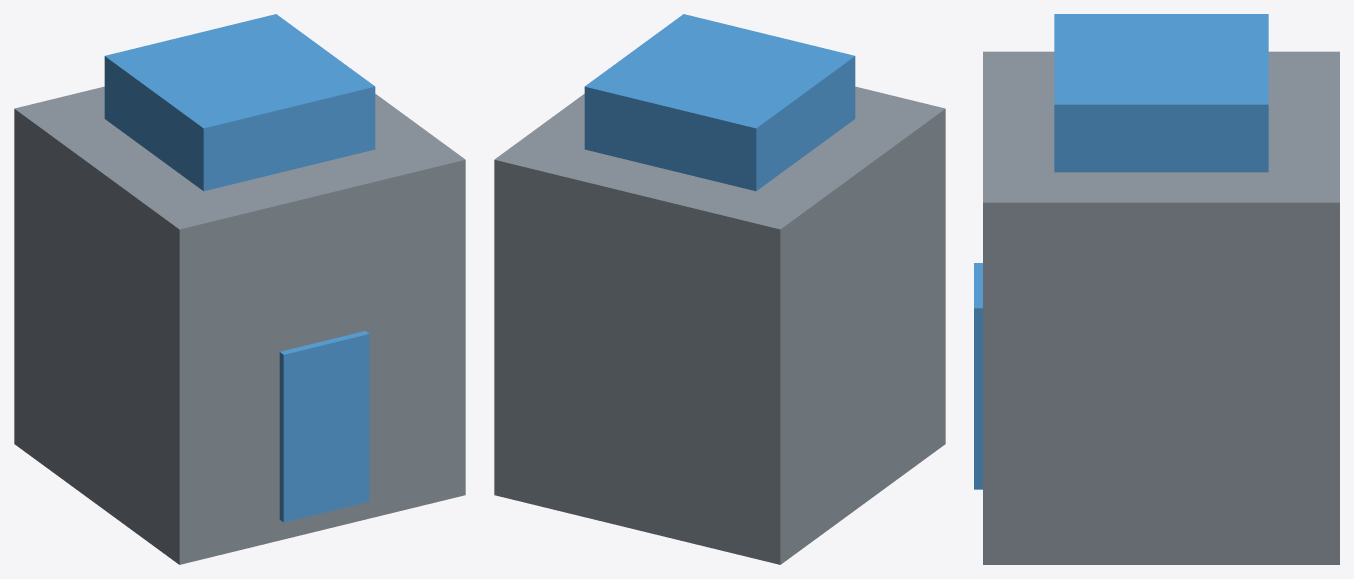
File: SM_Alliance_AL_PrismTower_Blockout.fbx
3 views of the same model, side by side, from view 1: azimuth 30°, elevation 25°; view 2: azimuth 150°, elevation 25°; view 3: azimuth 270°, elevation 25° (orthographic). The views are drawn at different scales.
Parts seen in each view (by area): view 1: MainBuilding, RoofStructure, EntranceGate; view 2: MainBuilding, RoofStructure; view 3: MainBuilding, RoofStructure, EntranceGate.
Part boxes in pixels (<box>): MainBuilding: <box>14,86,465,564</box>; RoofStructure: <box>104,14,375,191</box>; EntranceGate: <box>279,331,369,522</box>; MainBuilding: <box>494,86,945,564</box>; RoofStructure: <box>584,14,855,191</box>; MainBuilding: <box>983,51,1339,564</box>; RoofStructure: <box>1054,14,1268,172</box>; EntranceGate: <box>974,263,982,489</box>.
Bounding box in the file's own units: 400 × 532 × 410.
